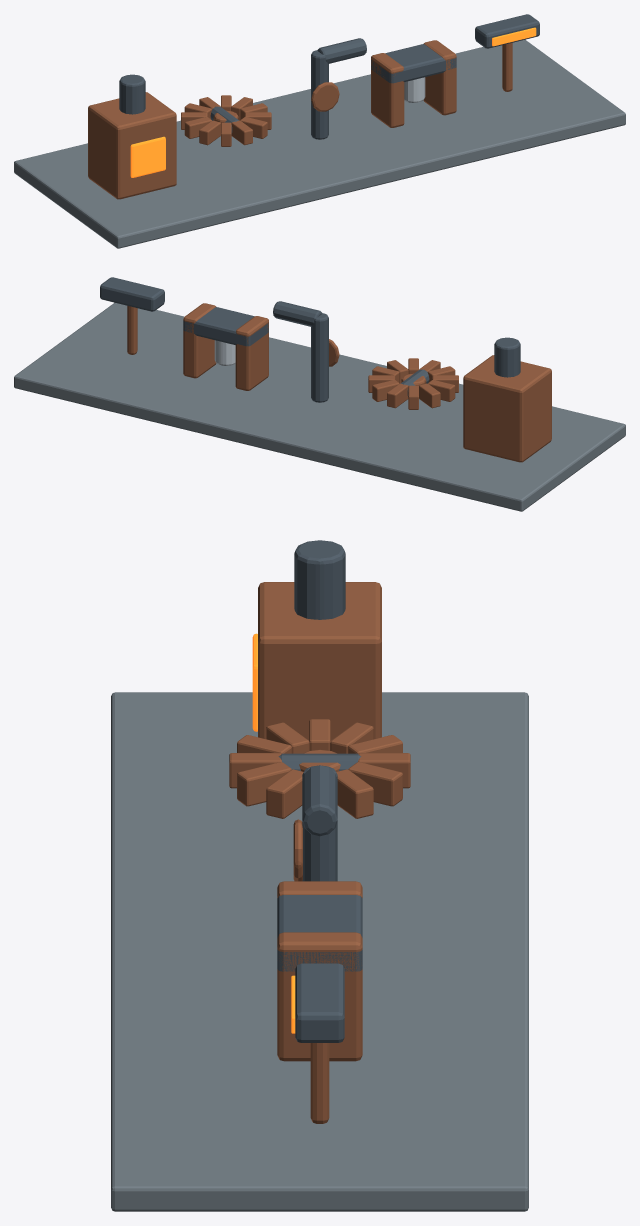
Rendered from Mechanical_Foundry_Asset_Roster.glb.
3 renders of one model, top to bottom at view 1: azimuth 30°, elevation 25°; view 2: azimuth 150°, elevation 25°; view 3: azimuth 270°, elevation 25°, orthographic. The views are drawn at different scales.
Parts seen in each view (by area): view 1: Display_Plinth, Furnace_Body, Press_Left, Machine_Press_Frame, Press_Right, Furnace_Mouth, Factory_Light_Housing, Pipe_Vertical, Furnace_Chimney, Pipe_Top, Pipe_Valve, Light_Stand (+6 smaller); view 2: Display_Plinth, Furnace_Body, Press_Left, Machine_Press_Frame, Press_Right, Factory_Light_Housing, Pipe_Vertical, Furnace_Chimney, Pipe_Top, Light_Stand, Press_Piston, Drive_Gear_Tooth_5 (+3 smaller); view 3: Display_Plinth, Furnace_Body, Press_Right, Machine_Press_Frame, Factory_Light_Housing, Furnace_Chimney, Pipe_Top, Pipe_Vertical, Light_Stand, Drive_Gear_Tooth_2, Drive_Gear_Tooth_10, Drive_Gear_Tooth_1 (+5 smaller).
Boxes of the visible parts, x1,y1,x2,y2 form: Display_Plinth: (14,39,625,248); Furnace_Body: (88,92,176,199); Press_Left: (371,53,404,127); Machine_Press_Frame: (371,44,456,83); Press_Right: (423,40,456,115); Furnace_Mouth: (130,136,165,177); Factory_Light_Housing: (475,14,539,48); Pipe_Vertical: (311,50,328,139); Furnace_Chimney: (119,74,145,114); Pipe_Top: (317,38,366,63); Pipe_Valve: (311,82,339,111); Light_Stand: (502,43,512,91); Display_Plinth: (14,302,625,511); Furnace_Body: (463,355,551,462); Press_Left: (235,316,268,390); Machine_Press_Frame: (183,307,268,346); Press_Right: (183,303,216,378); Factory_Light_Housing: (100,277,164,311); Pipe_Vertical: (311,313,328,402); Furnace_Chimney: (494,337,520,377); Pipe_Top: (273,301,322,326); Light_Stand: (127,306,137,354); Press_Piston: (214,340,235,365); Drive_Gear_Tooth_5: (419,383,440,408); Display_Plinth: (111,692,528,1211); Furnace_Body: (258,582,381,740); Press_Right: (277,932,362,1061); Machine_Press_Frame: (277,895,362,971); Factory_Light_Housing: (295,963,344,1042); Furnace_Chimney: (294,540,345,619); Pipe_Top: (302,765,337,836); Pipe_Vertical: (302,765,337,881); Light_Stand: (310,1043,329,1123); Drive_Gear_Tooth_2: (348,762,402,806); Drive_Gear_Tooth_10: (237,762,291,806); Drive_Gear_Tooth_1: (336,769,373,818).
Bounding box in the file's own units: 15.2 × 3.31 × 5.4.
